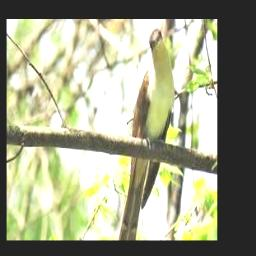Cuckoo: (118, 29, 175, 240)
